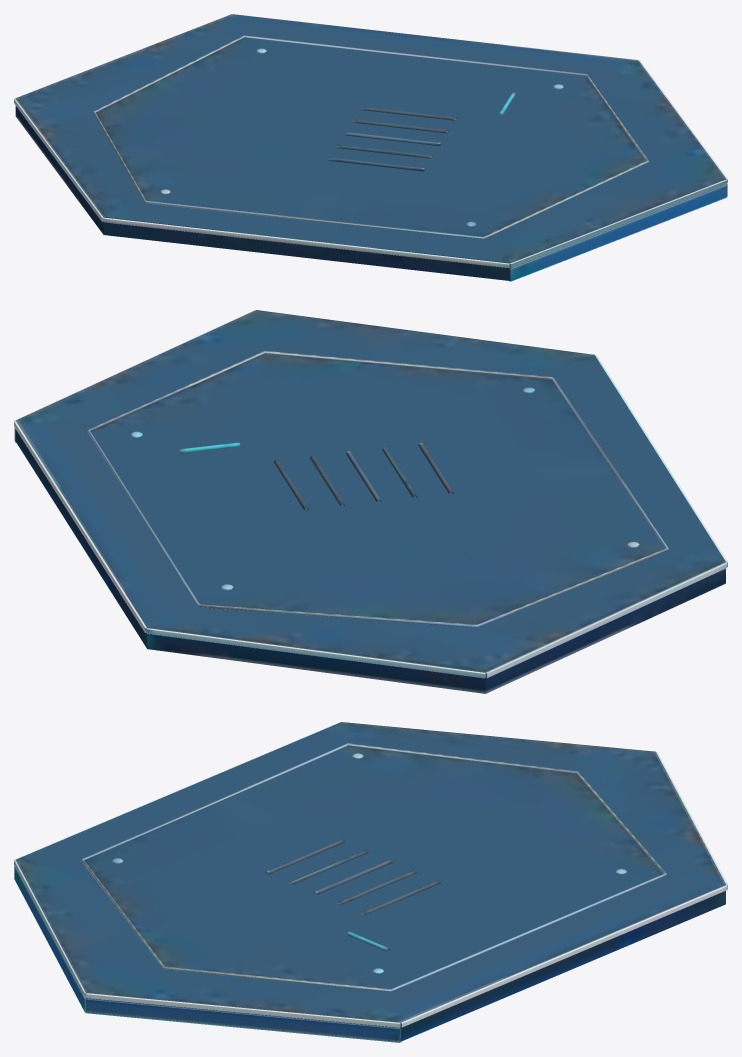
The model's file is field_cm29_01.glb.
The picture shows the model from 3 angles, top to bottom: view 1: azimuth 30°, elevation 25°; view 2: azimuth 150°, elevation 25°; view 3: azimuth 270°, elevation 25°; orthographic projection. The views are drawn at different scales.
Parts seen in each view (by area): view 1: field_cm29_01-runtime-static; view 2: field_cm29_01-runtime-static; view 3: field_cm29_01-runtime-static.
Boxes of the visible parts, box(x1,y1,x2,y2) form: field_cm29_01-runtime-static: box(14, 14, 727, 281); field_cm29_01-runtime-static: box(14, 310, 727, 693); field_cm29_01-runtime-static: box(14, 722, 727, 1042).
Size of the model in its own units: 7.87 by 0.3019 by 7.87.
Materials: 1 (1 with a texture image).
